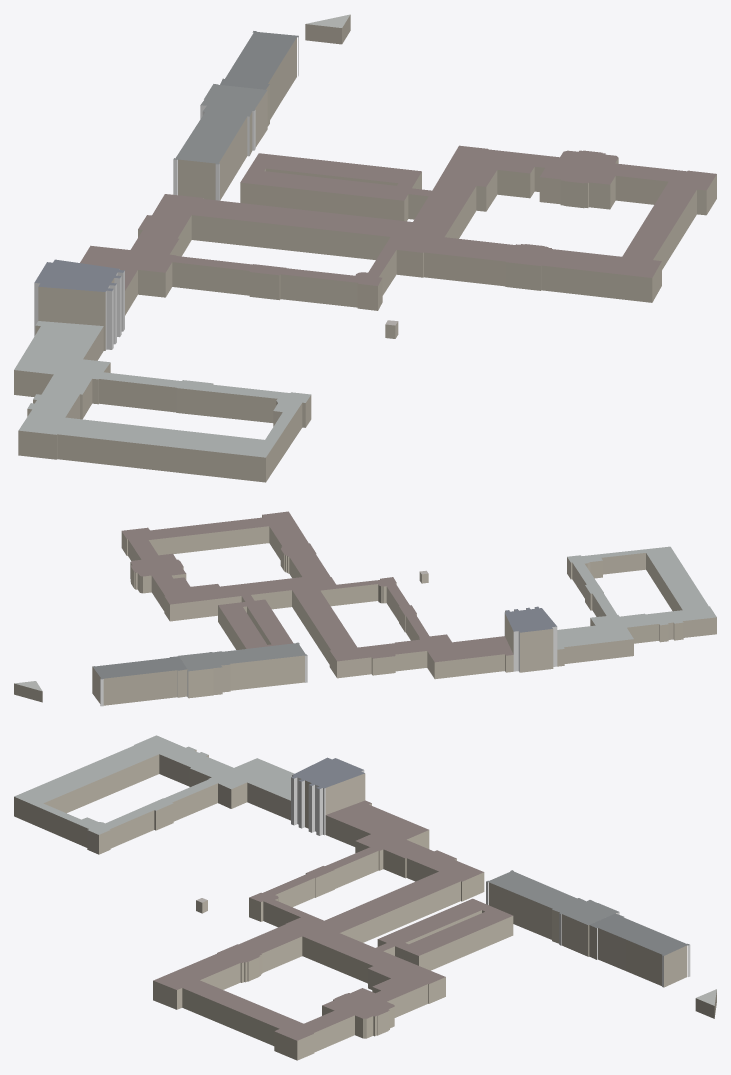
3 views of the same model, one above another, from view 1: azimuth 30°, elevation 25°; view 2: azimuth 150°, elevation 25°; view 3: azimuth 270°, elevation 25° (orthographic). The views are drawn at different scales.
Visible parts, largest first — view 1: tuile; view 2: tuile; view 3: tuile.
Part boxes in pixels (<box>): tuile: <box>14,14,716,482</box>; tuile: <box>14,511,716,706</box>; tuile: <box>14,735,716,1060</box>.
Size of the model in its own units: 296 by 21.22 by 288.
